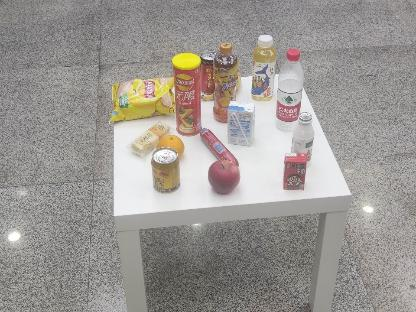Can: (150, 148, 182, 192), (198, 48, 221, 96)
Others: (170, 51, 202, 135), (224, 99, 258, 151), (280, 148, 312, 196)
Plastic Bottle: (276, 47, 306, 132), (252, 34, 274, 100)
